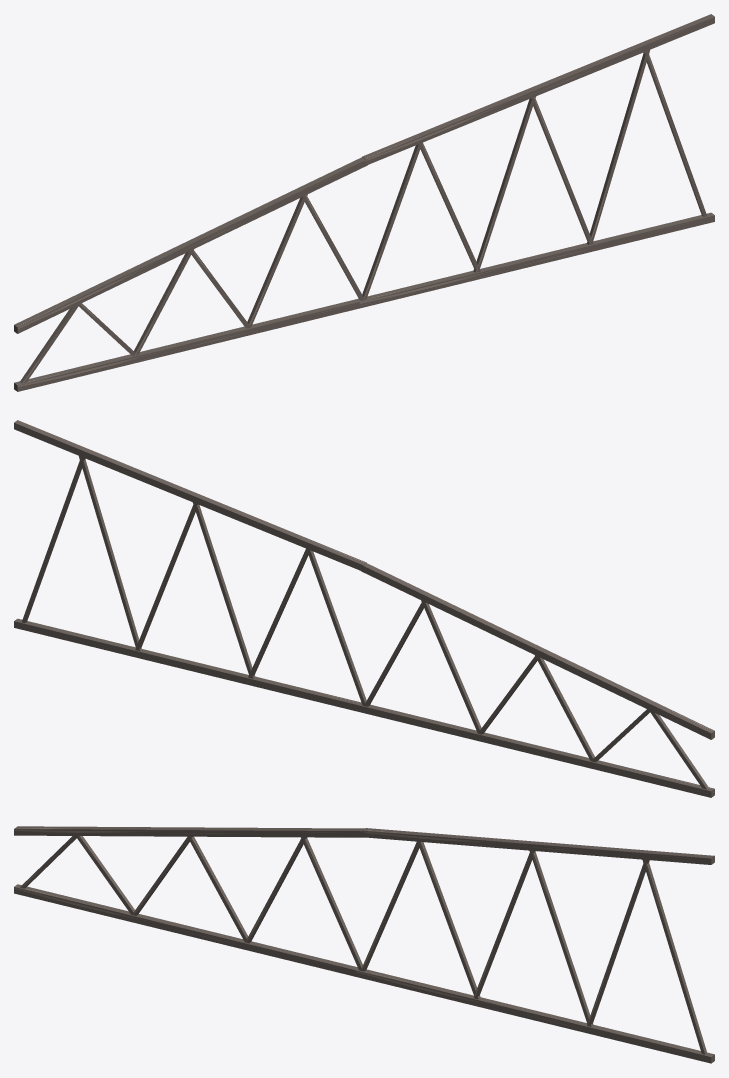
The model's file is beam_roof.fbx.
3 renders of one model, top to bottom at view 1: azimuth 30°, elevation 25°; view 2: azimuth 150°, elevation 25°; view 3: azimuth 330°, elevation 25°, orthographic.
Visible parts, largest first — view 1: Cube.005; view 2: Cube.005; view 3: Cube.005.
Boxes of the visible parts, x1,y1,x2,y2 form: Cube.005: [14, 14, 714, 391]; Cube.005: [14, 420, 714, 797]; Cube.005: [14, 826, 714, 1063].
Size of the model in its own units: 2277 by 640 by 20.66.
Materials: 1 (1 with a texture image).
